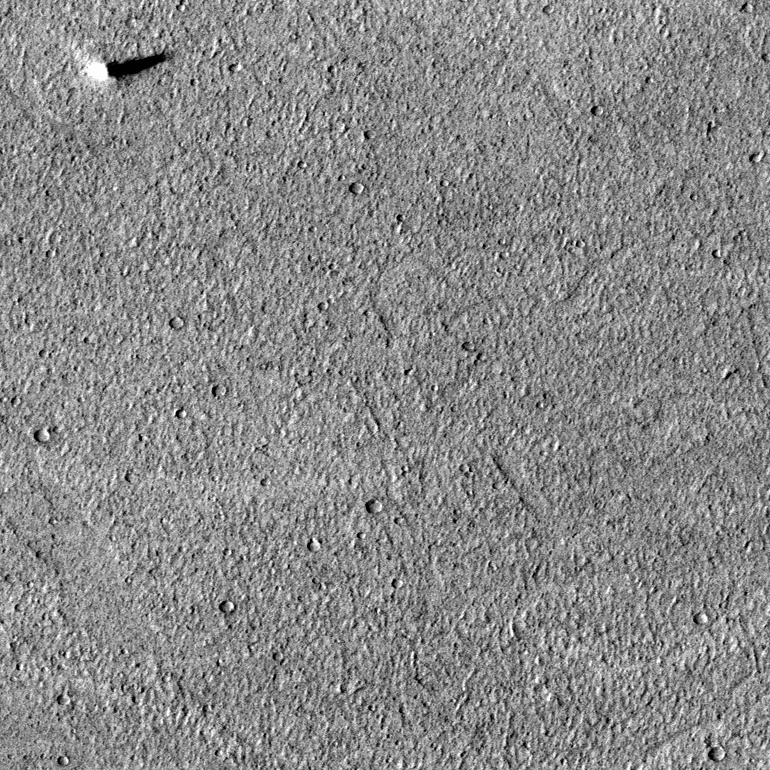dust_devil: (82, 48, 174, 83)
